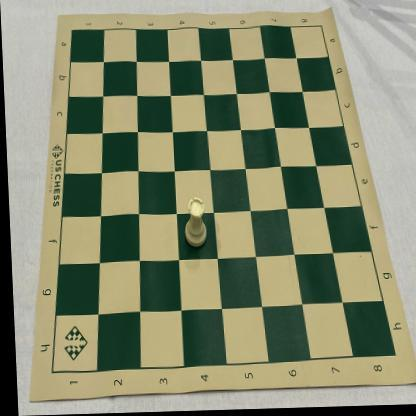white-rook: (181, 198, 206, 250)
